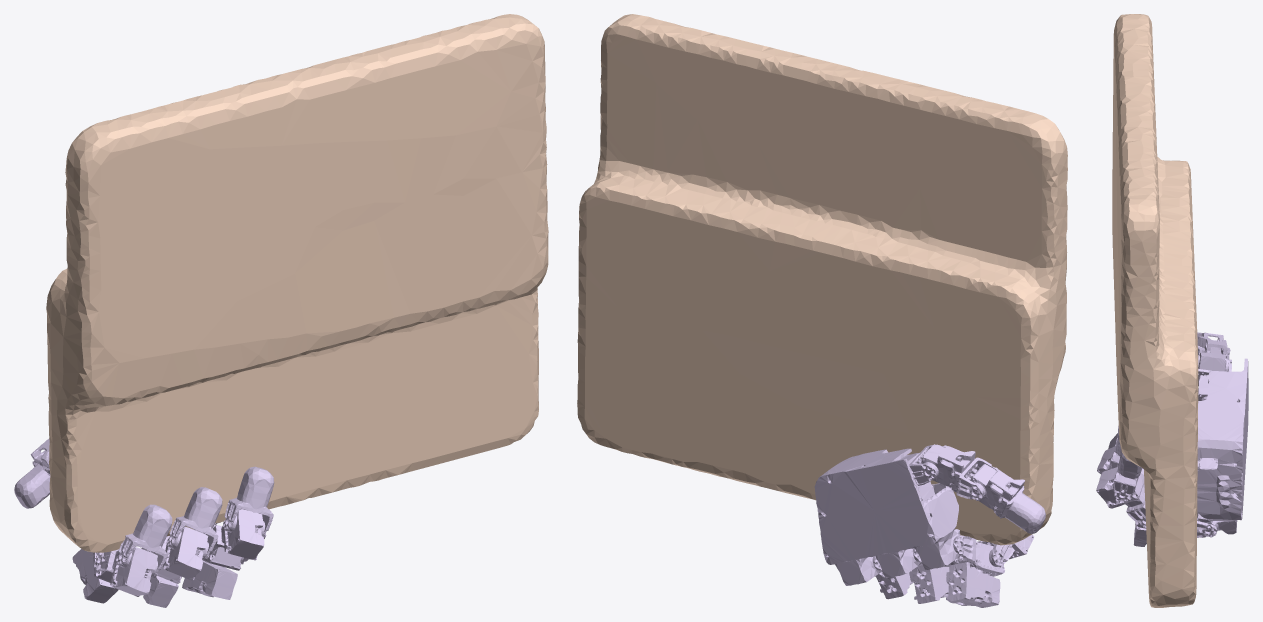
File: 3477f5f2d2175d-closed.glb
3 views of the same model, side by side, from view 1: azimuth 30°, elevation 25°; view 2: azimuth 150°, elevation 25°; view 3: azimuth 270°, elevation 25° (orthographic). The views are drawn at different scales.
Parts seen in each view (by area): view 1: world, LEAP_hand; view 2: world, LEAP_hand; view 3: world, LEAP_hand.
Part boxes in pixels (x1,y1,x2,y2): world: [46, 14, 548, 552]; LEAP_hand: [14, 438, 274, 607]; world: [577, 14, 1067, 545]; LEAP_hand: [814, 444, 1045, 607]; world: [1112, 14, 1198, 607]; LEAP_hand: [1096, 332, 1248, 546].
Size of the model in its own units: 0.4749 by 0.4754 by 0.1349.
